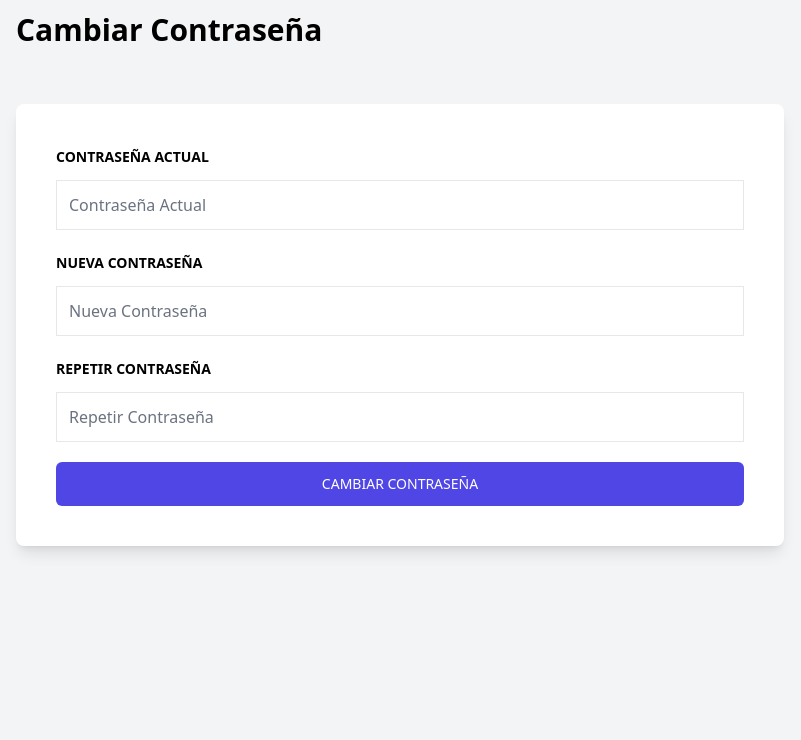
Scenario: ChangePasswordView › debe validar que contraseña actual sea requerida
This screenshot has width=801, height=740.
Click the button showing "Cambiar Contraseña".
click(400, 484)  # box x1=56 y1=462 x2=744 y2=506
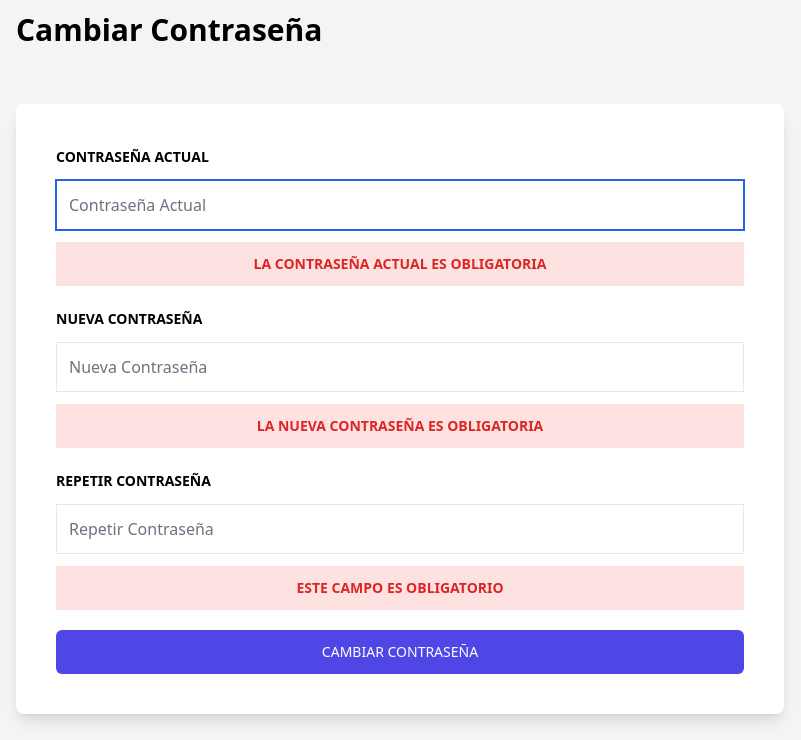
Result: the text "La contraseña actual es obligatoria" is shown at x1=56 y1=242 x2=744 y2=286
